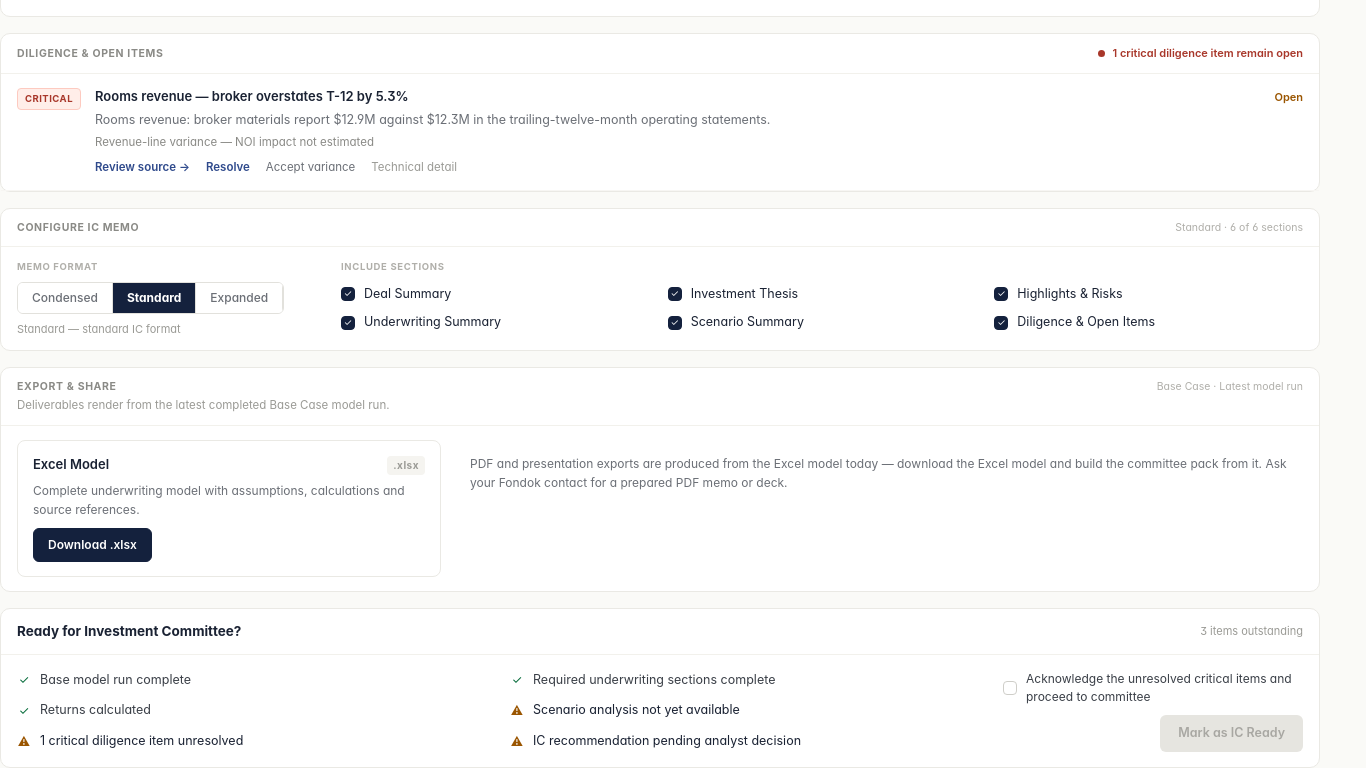
Test case: ICMemoTab — no Preview Memo step (FON-54 §7) › can mark IC Ready with an acknowledged critical without any preview step
(page scrolled)
Expected: the button "Mark as IC Ready" is disabled, [1160,715,1303,752]
Click the checkbox "Acknowledge the unresolved critical items and proceed to committee" at point(1153, 688), box [1003,670,1303,706]
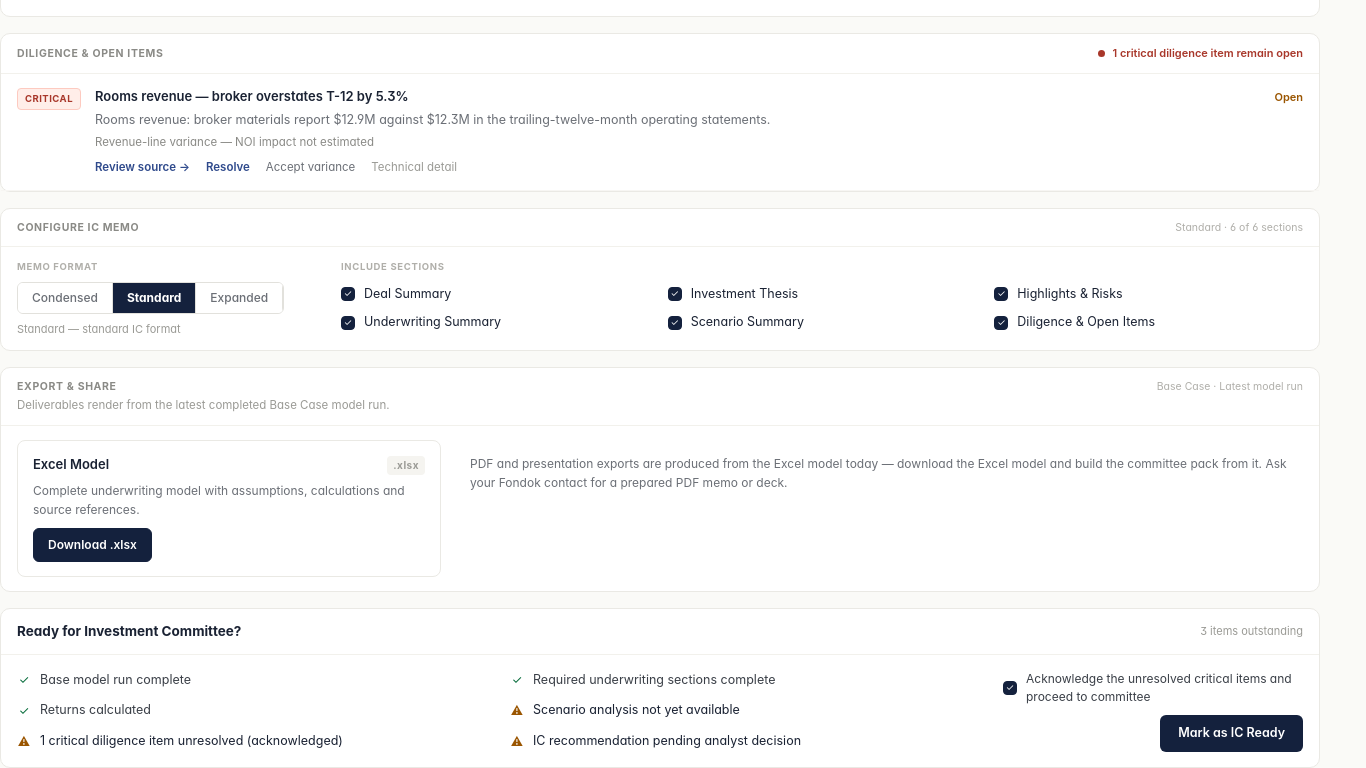
Result: the button "Mark as IC Ready" is enabled
Click the button "Mark as IC Ready" at point(1232, 733), box [1160,715,1303,752]
(page scrolled)
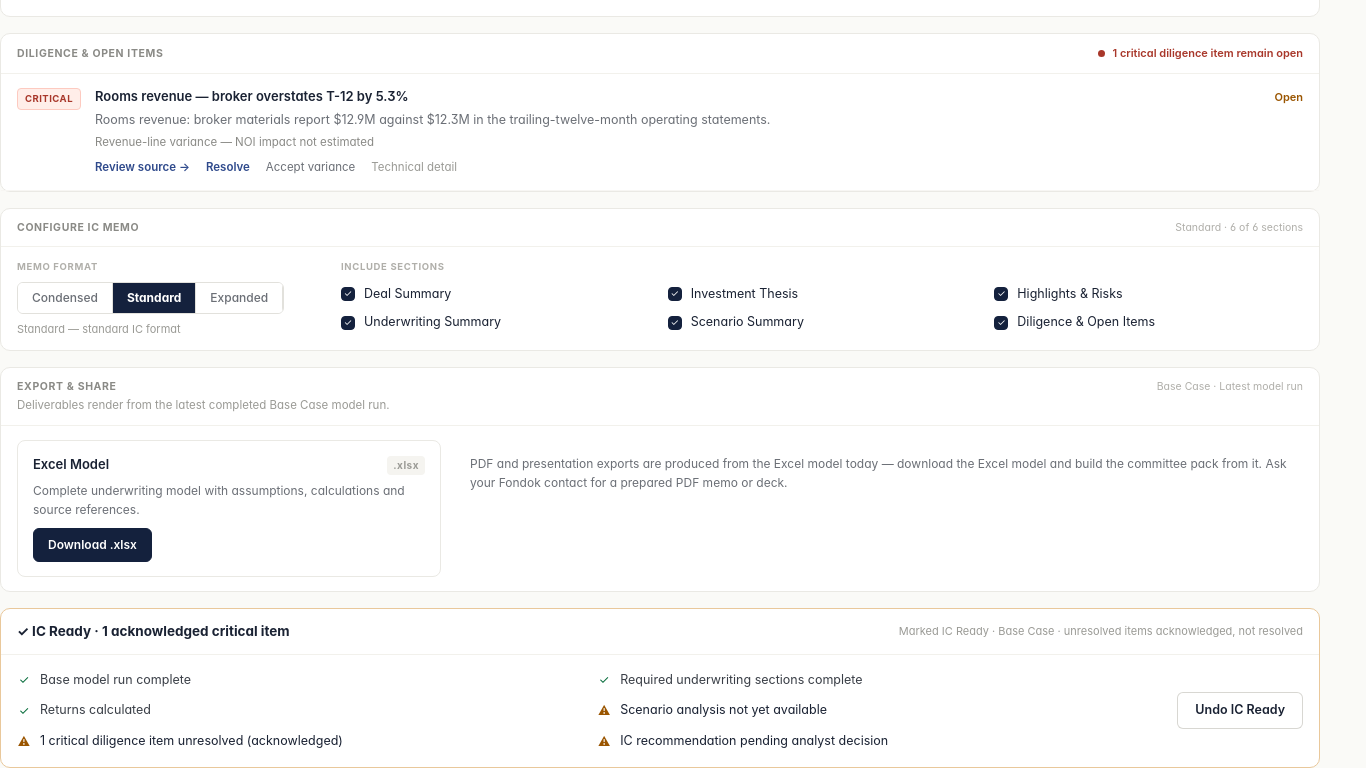
Result: the text "✓ IC Ready · 1 acknowledged critical item" is shown at [17,621,290,642]
